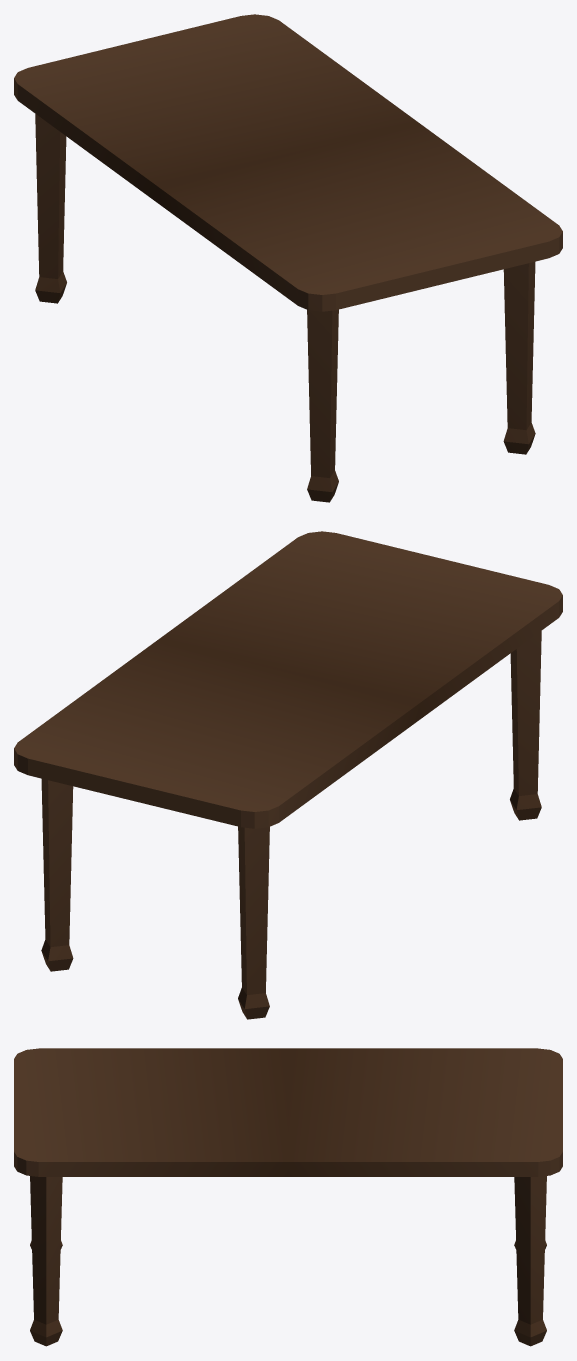
Rendered from Table 2.glb.
The picture shows the model from 3 angles, top to bottom: view 1: azimuth 30°, elevation 25°; view 2: azimuth 150°, elevation 25°; view 3: azimuth 270°, elevation 25°; orthographic projection. The views are drawn at different scales.
Parts seen in each view (by area): view 1: Table 2; view 2: Table 2; view 3: Table 2.
Part boxes in pixels (x1,y1,x2,y2): Table 2: (14,14,562,502); Table 2: (14,531,562,1019); Table 2: (14,1048,562,1346).
Size of what is drawn, in the model's own units: 1.21 by 0.9666 by 2.47.
Materials: 1 (1 with a texture image).
